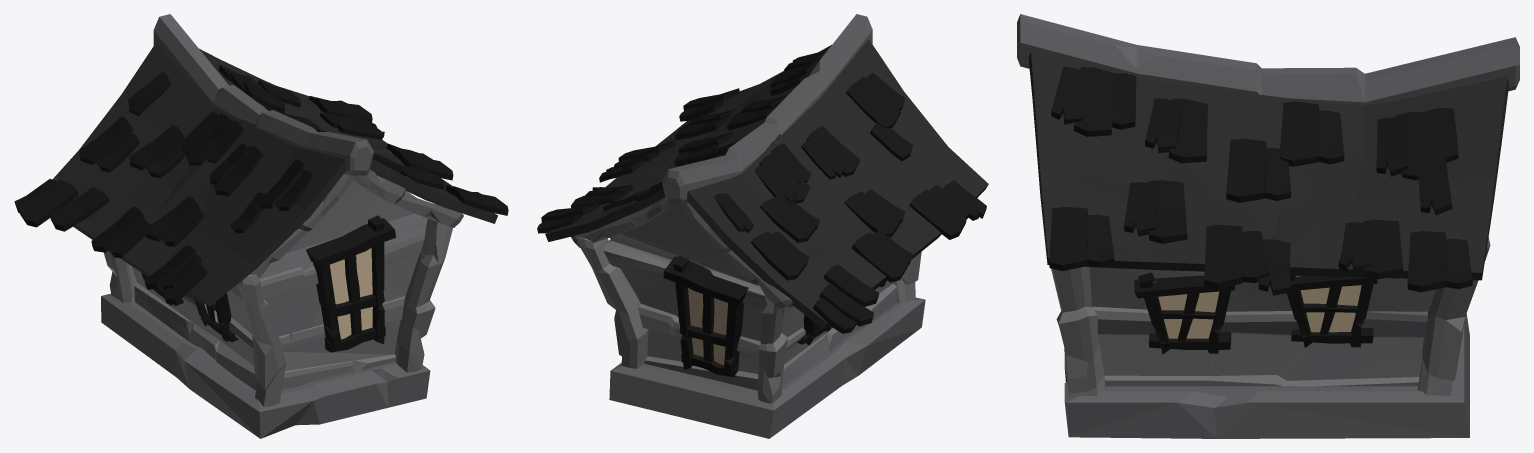
File: WF_LP_HT_Build_HouseRoom.002.fbx
3 views of the same model, side by side, from view 1: azimuth 30°, elevation 25°; view 2: azimuth 150°, elevation 25°; view 3: azimuth 270°, elevation 25° (orthographic). The views are drawn at different scales.
Visible parts, largest first — view 1: WF_LP_HT_Build_HouseRoom.002; view 2: WF_LP_HT_Build_HouseRoom.002; view 3: WF_LP_HT_Build_HouseRoom.002.
Boxes of the visible parts, left/top/right/bottom form: WF_LP_HT_Build_HouseRoom.002: left=14, top=14, right=508, bottom=438; WF_LP_HT_Build_HouseRoom.002: left=537, top=14, right=988, bottom=438; WF_LP_HT_Build_HouseRoom.002: left=1017, top=14, right=1519, bottom=438.
Bounding box in the file's own units: 5.57 × 4.51 × 5.58.
